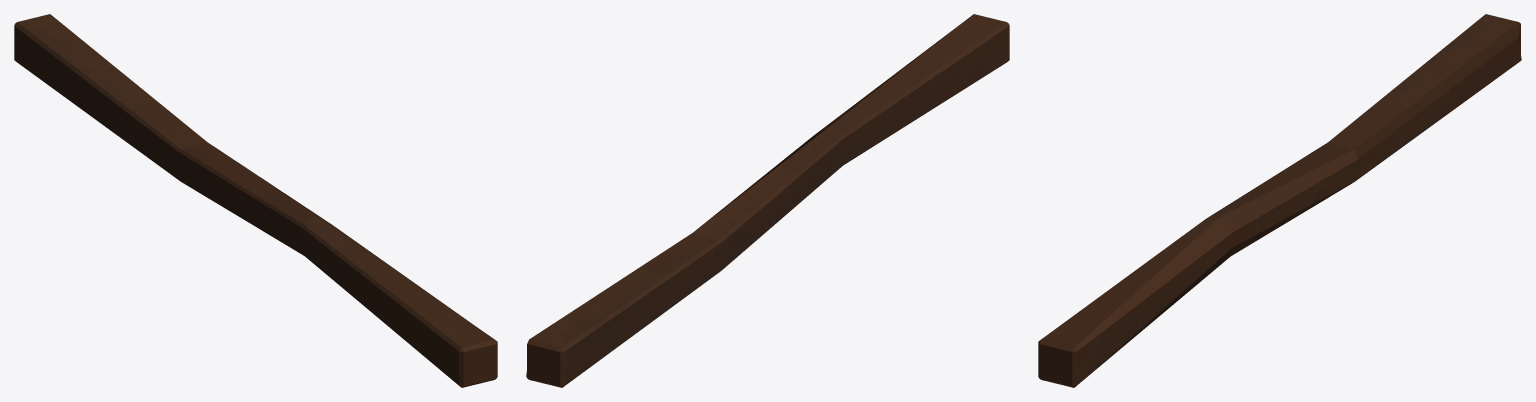
Rendered from PlankBlock.fbx.
3 renders of one model, left to right at view 1: azimuth 30°, elevation 25°; view 2: azimuth 150°, elevation 25°; view 3: azimuth 330°, elevation 25°, orthographic.
Parts seen in each view (by area): view 1: Cube; view 2: Cube; view 3: Cube.
Part boxes in pixels (x1,y1,x2,y2): Cube: (14, 14, 497, 387); Cube: (526, 14, 1009, 387); Cube: (1038, 14, 1521, 387).
Size of the model in its own units: 27.75 by 34.88 by 554.
